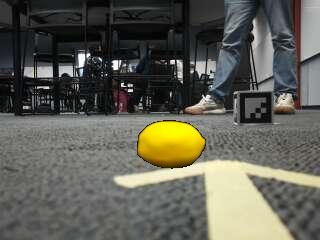lemon: (138, 121, 205, 168)
